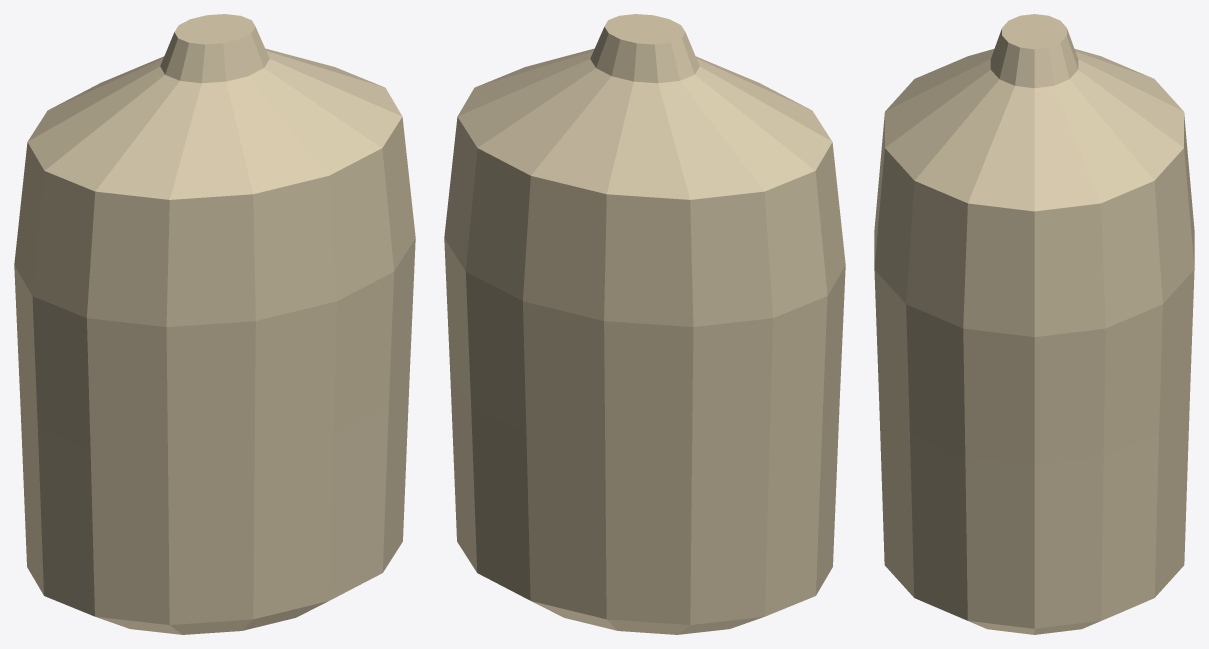
The model's file is sack.glb.
3 renders of one model, left to right at view 1: azimuth 30°, elevation 25°; view 2: azimuth 150°, elevation 25°; view 3: azimuth 270°, elevation 25°, orthographic.
Parts seen in each view (by area): view 1: ForgeCore item; view 2: ForgeCore item; view 3: ForgeCore item.
Boxes of the visible parts, left/top/right/bottom form: ForgeCore item: left=14, top=14, right=415, bottom=634; ForgeCore item: left=444, top=14, right=845, bottom=634; ForgeCore item: left=874, top=14, right=1194, bottom=634.
Bounding box in the file's own units: 0.5639 × 0.82 × 0.4363.
